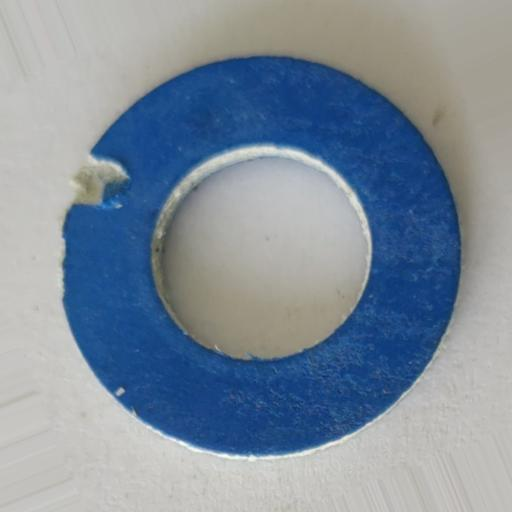defect: (68, 156, 131, 208)
